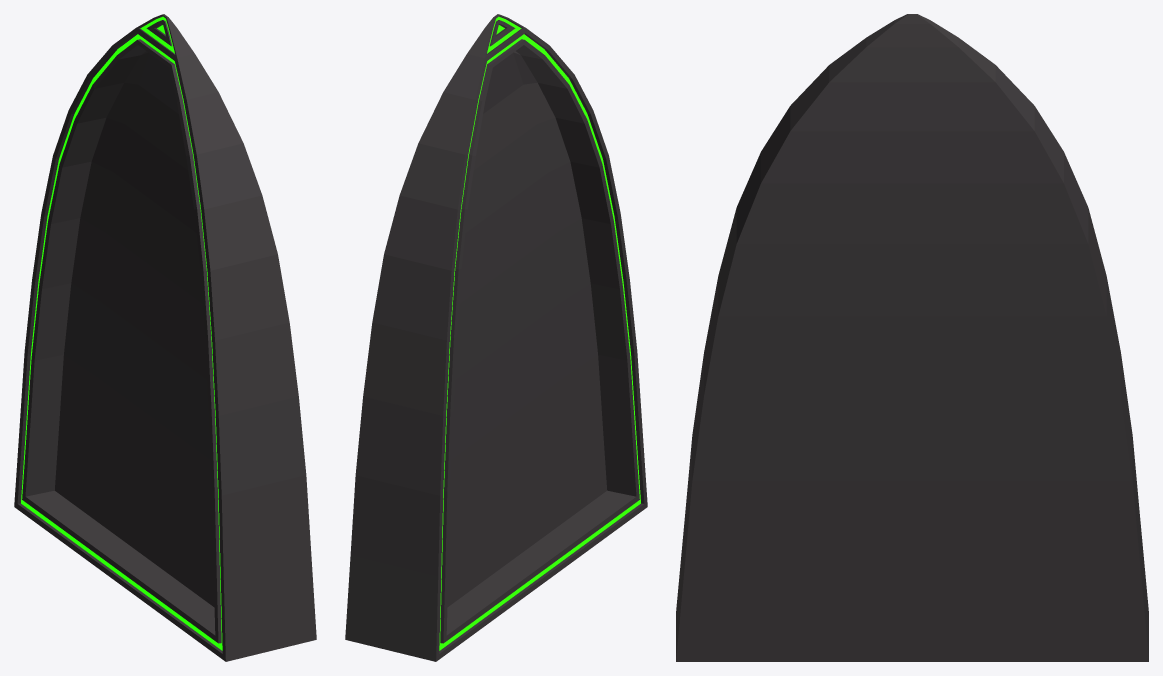
Rendered from portal_green_duzy.fbx.
3 renders of one model, left to right at view 1: azimuth 30°, elevation 25°; view 2: azimuth 150°, elevation 25°; view 3: azimuth 270°, elevation 25°, orthographic. The views are drawn at different scales.
Parts seen in each view (by area): view 1: portal green; view 2: portal green; view 3: portal green.
Boxes of the visible parts, <box> form: portal green: <box>14,14,316,661</box>; portal green: <box>345,14,647,661</box>; portal green: <box>676,14,1148,661</box>.
Bounding box in the file's own units: 10435 × 61144 × 42091.
